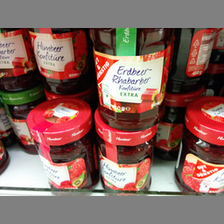jam: (88, 29, 171, 130), (26, 96, 98, 195), (95, 107, 159, 195), (174, 96, 224, 195), (25, 28, 94, 95)
